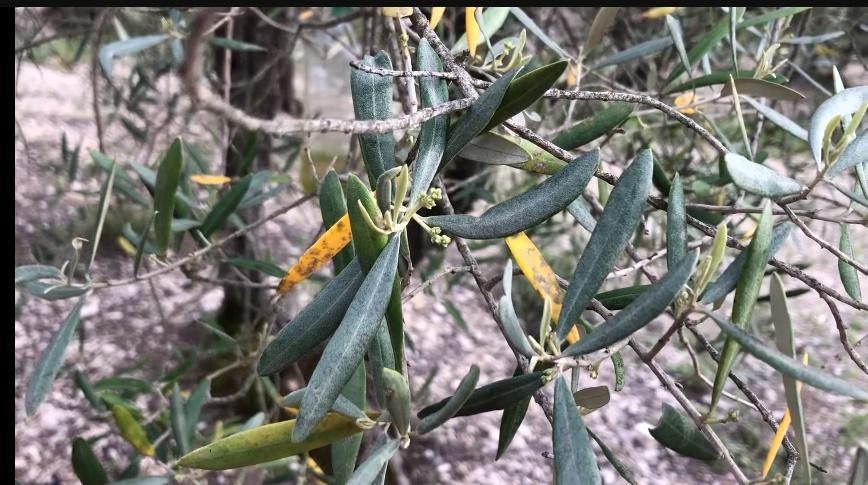OlivePeacockSpot: (291, 234, 408, 444), (422, 149, 602, 241), (176, 408, 380, 469), (257, 266, 361, 376), (508, 229, 582, 346), (278, 220, 354, 290), (552, 381, 601, 485), (508, 144, 564, 173), (608, 355, 628, 394)
